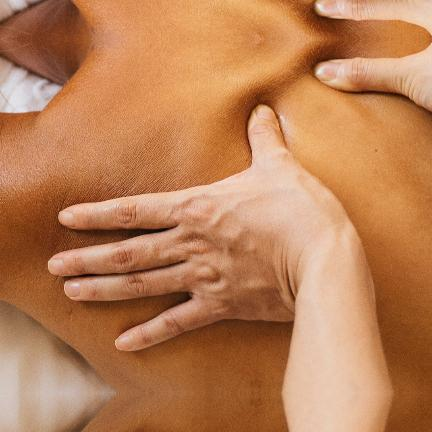Nail: (313, 60, 341, 81), (255, 101, 278, 124), (313, 0, 341, 16), (47, 257, 68, 276), (64, 279, 81, 298), (58, 210, 76, 227), (115, 335, 133, 351)
